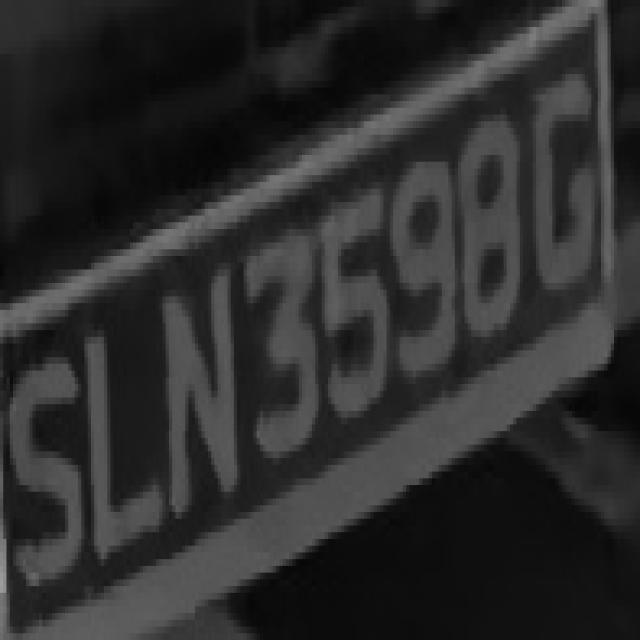3: (237, 216, 328, 472)
5: (318, 169, 396, 458)
8: (452, 94, 530, 357)
9: (380, 134, 455, 390)
G: (516, 48, 598, 324)
L: (72, 297, 159, 586)
N: (140, 235, 237, 546)
S: (7, 303, 88, 627)
